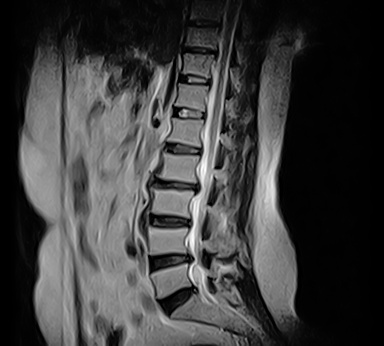L1,v2: (164, 119, 207, 144)
L1-L2,v1: (161, 136, 204, 161)
L2,v2: (157, 156, 200, 181)
L2-L3,v3: (154, 172, 197, 197)
L2-L3,v5: (154, 172, 197, 197)
L3,v2: (149, 188, 192, 213)
L3-L4,v2: (147, 210, 190, 235)
L4,v2: (145, 229, 188, 254)
L4-L5,v3: (146, 247, 189, 272)
L5,v2: (150, 267, 193, 292)
L5-S1,v2: (155, 286, 198, 311)
T12-L1,v1: (167, 100, 210, 125)
